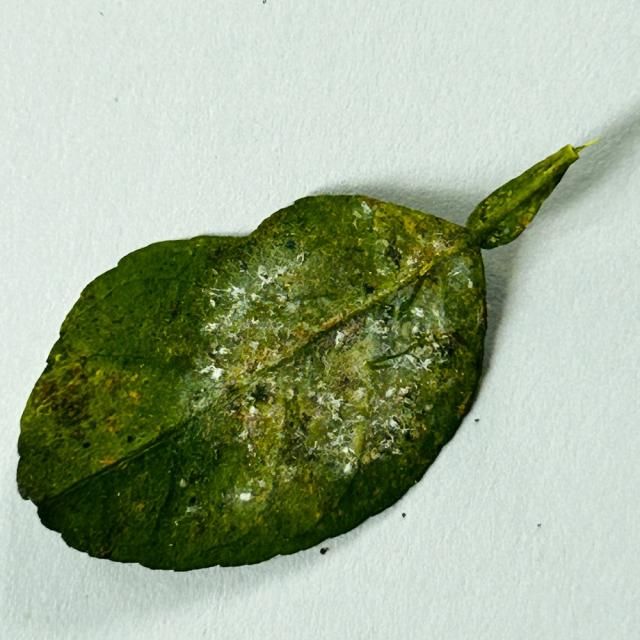Bacterial_Blight: (32, 349, 148, 450), (290, 370, 365, 464), (482, 171, 546, 227), (142, 294, 203, 351), (171, 457, 222, 512), (331, 338, 375, 390), (374, 208, 427, 250), (49, 392, 90, 428), (238, 406, 269, 444), (330, 370, 357, 396), (486, 221, 515, 243), (38, 379, 62, 405), (259, 347, 287, 369), (246, 383, 272, 404), (384, 243, 403, 268), (251, 395, 273, 414), (186, 467, 207, 486), (297, 410, 313, 434), (458, 391, 473, 412), (451, 331, 469, 348), (168, 299, 184, 318), (289, 327, 310, 341), (403, 425, 420, 442), (227, 397, 243, 414), (300, 468, 313, 486), (91, 369, 105, 385), (362, 282, 376, 295), (478, 210, 490, 222), (402, 391, 415, 402), (543, 164, 556, 175), (306, 449, 317, 461), (285, 239, 297, 250), (246, 396, 257, 408), (352, 244, 365, 254), (96, 548, 110, 557), (36, 404, 47, 415), (188, 496, 197, 505)
Lemon: (15, 147, 585, 575)
